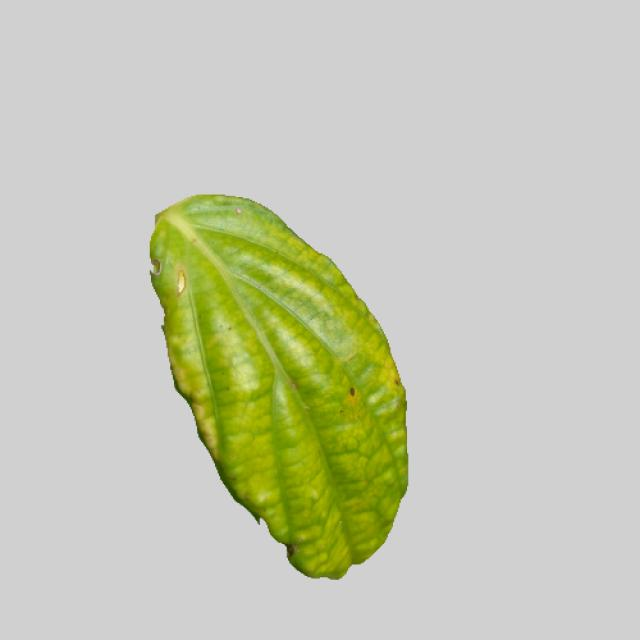yellow-mottle-virus: (130, 196, 408, 580)
